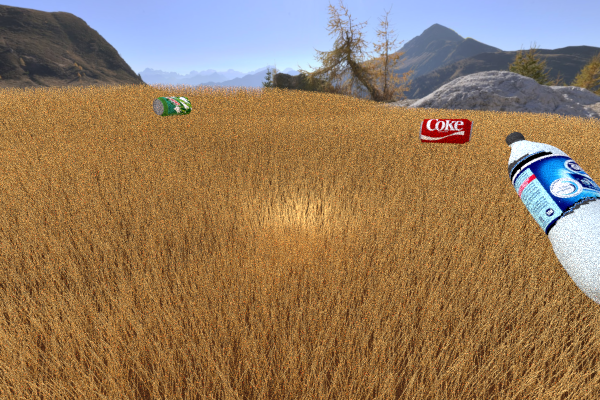bottle: (505, 131, 600, 314)
can: (419, 118, 473, 144), (152, 96, 191, 116)
